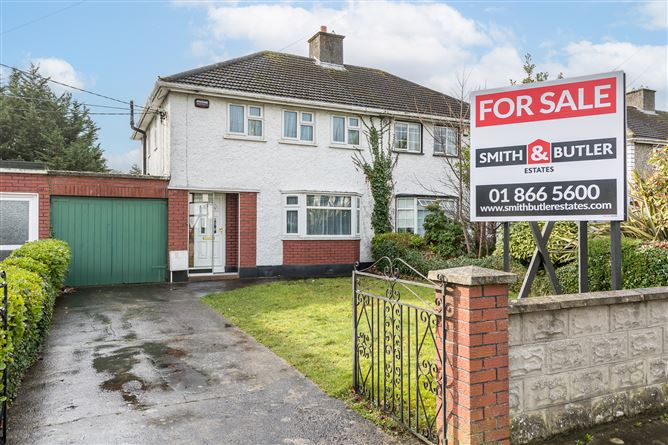property sign: (450, 62, 640, 259)
